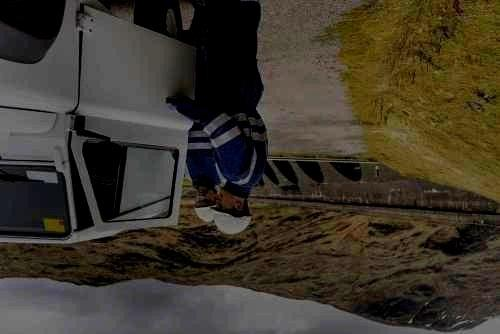helmet: (210, 189, 253, 236), (193, 185, 220, 223)
